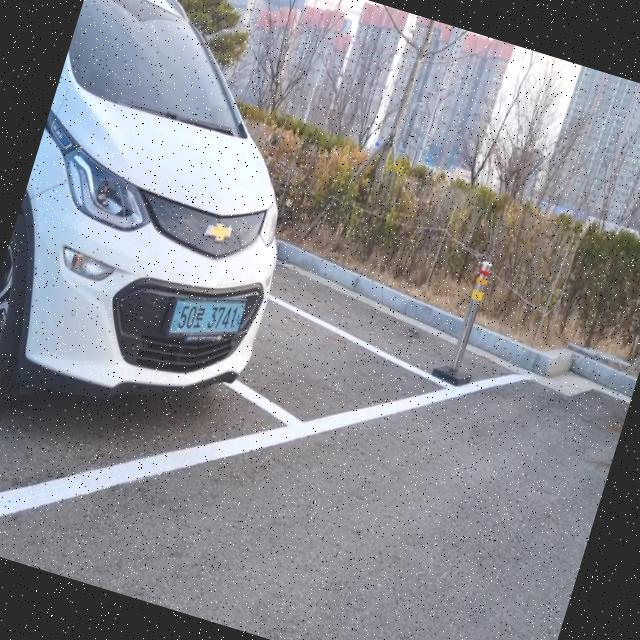empty: (235, 236, 472, 473)
occupied: (0, 0, 391, 579)
